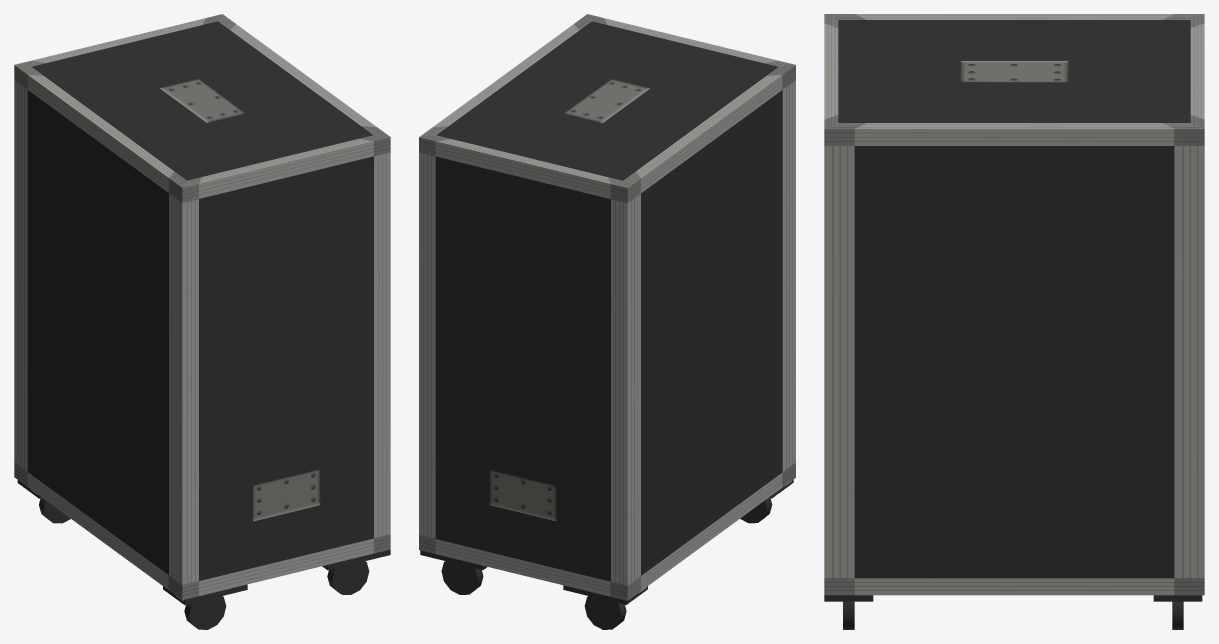
File: Flight_case_2.fbx
3 views of the same model, side by side, from view 1: azimuth 30°, elevation 25°; view 2: azimuth 150°, elevation 25°; view 3: azimuth 270°, elevation 25° (orthographic). The views are drawn at different scales.
Visible parts, largest first — view 1: Flight_case_2; view 2: Flight_case_2; view 3: Flight_case_2.
Boxes of the visible parts, bbox=[...] form: Flight_case_2: bbox=[14, 14, 390, 629]; Flight_case_2: bbox=[419, 14, 795, 629]; Flight_case_2: bbox=[824, 14, 1204, 629].
Bounding box in the file's own units: 1.15 × 2.4 × 1.6.
